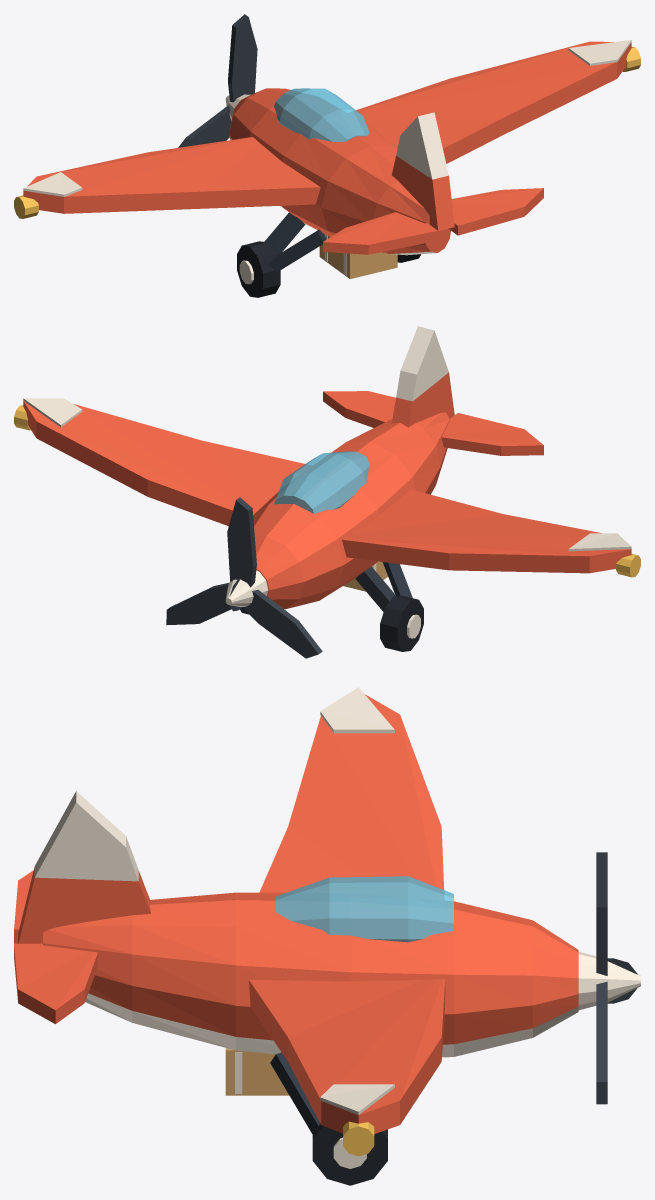
The picture shows the model from 3 angles, top to bottom: view 1: azimuth 30°, elevation 25°; view 2: azimuth 150°, elevation 25°; view 3: azimuth 270°, elevation 25°; orthographic projection. The views are drawn at different scales.
Parts seen in each view (by area): view 1: Body, Propeller; view 2: Body, Propeller; view 3: Body, Propeller.
Boxes of the visible parts, <box> form: Body: <box>14,40,640,297</box>; Propeller: <box>178,14,257,147</box>; Body: <box>14,326,640,651</box>; Propeller: <box>166,497,322,658</box>; Body: <box>14,687,640,1185</box>; Propeller: <box>596,852,637,1104</box>.
Size of the model in its own units: 4.9 by 1.77 by 3.02.
